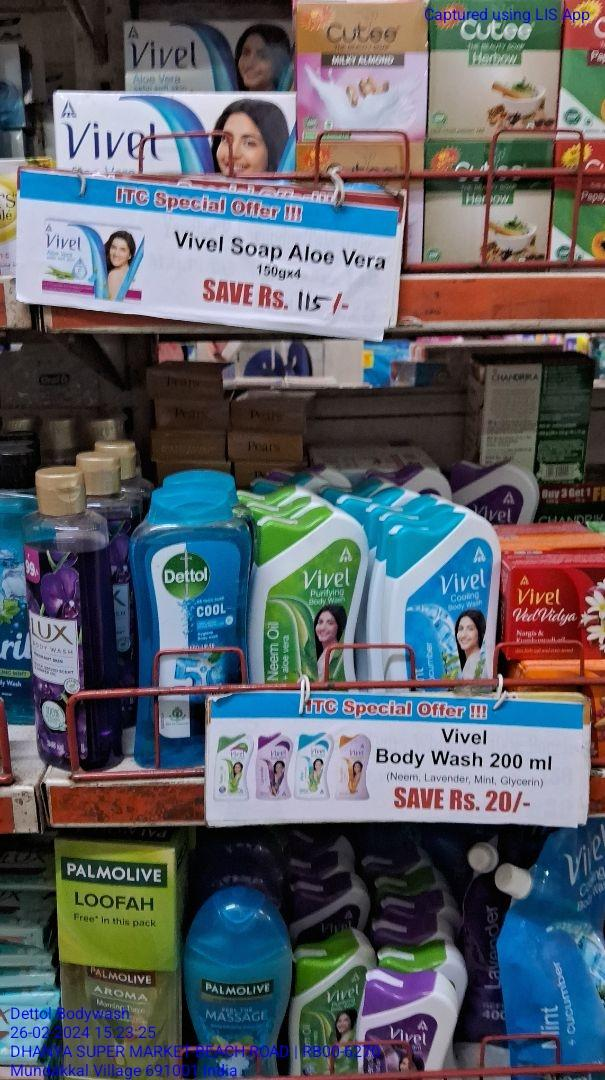Dettol_Bodywash_Cool: (129, 477, 246, 767)
Lux_Black_Orchid_Scent_and_Juniper_Oil_Body_Wash_245ML: (23, 461, 127, 774)
